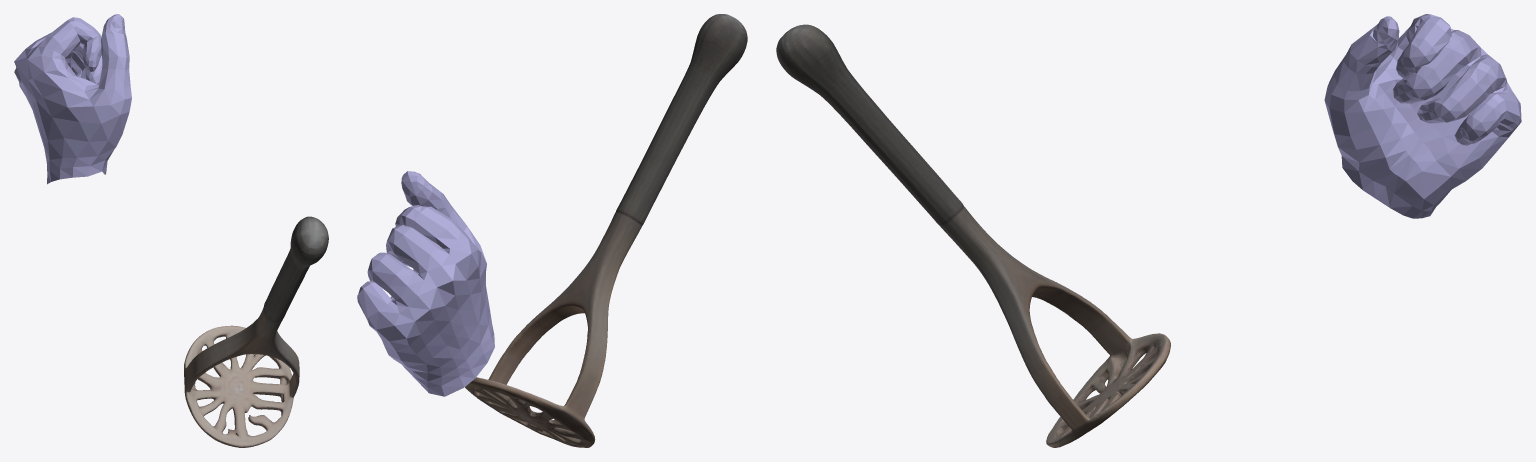
File: frame_0039_source_000039_hand_object.glb
3 views of the same model, side by side, from view 1: azimuth 30°, elevation 25°; view 2: azimuth 150°, elevation 25°; view 3: azimuth 270°, elevation 25° (orthographic). The views are drawn at different scales.
Visible parts, largest first — view 1: world; view 2: world; view 3: world.
Boxes of the visible parts, <box> form: world: <box>14,14,328,447</box>; world: <box>357,14,747,447</box>; world: <box>776,14,1521,447</box>.
Bounding box in the file's own units: 0.0969 × 0.236 × 0.3793.
